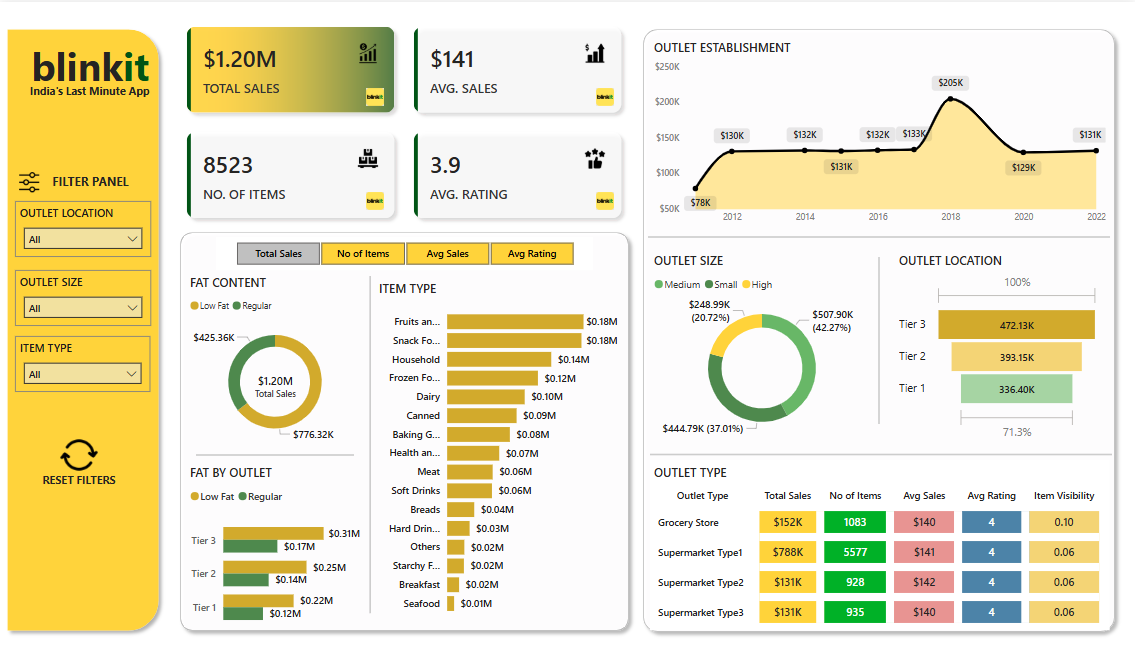

The page's visual inventory and layout, read from the dashboard file:
{"tool":"powerbi","page":{"name":"BlinkIt Analysis","canvas":[1400,800],"ordinal":0},"visuals":[{"type":"shape","box":[0,24.7,204.8,759.8],"z":0},{"type":"textbox","box":[28.7,40.4,166,76.6],"z":1000},{"type":"textbox","box":[27.7,95.7,167,28.7],"z":2000},{"type":"cardVisual","fields":{"Data":["BlinkIT Grocery Data.Total Sales","BlinkIT Grocery Data.Avg Sales","BlinkIT Grocery Data.No of Items","BlinkIT Grocery Data.Avg Rating"]},"box":[213.4,13.6,571.1,270.1],"z":3000},{"type":"shape","box":[213.4,275.1,571.1,509.4],"z":4000},{"type":"donutChart","title":"FAT CONTENT","fields":{"Y":["BlinkIT Grocery Data.Total Sales"],"Category":["BlinkIT Grocery Data.Item Fat Content"]},"box":[229.4,330.6,219.6,223.3],"z":5000},{"type":"slicer","fields":{"Values":["Metrics.Metrics"]},"box":[266.4,289.9,465,40.7],"z":6000},{"type":"cardVisual","fields":{"Data":["BlinkIT Grocery Data.Total Sales"]},"box":[288.3,441.5,102.1,61.7],"z":7000},{"type":"clusteredBarChart","title":"FAT BY OUTLET","fields":{"Y":["BlinkIT Grocery Data.Total Sales"],"Category":["BlinkIT Grocery Data.Outlet Location Type"],"Series":["BlinkIT Grocery Data.Item Fat Content"]},"box":[229.4,564.9,219.6,220.8],"z":8000},{"type":"shape","box":[241.8,552.6,194.9,12.3],"z":9000},{"type":"shape","box":[450,338.3,12.8,416],"z":10000},{"type":"barChart","title":"ITEM TYPE","fields":{"Y":["BlinkIT Grocery Data.Total Sales"],"Category":["BlinkIT Grocery Data.Item Type"]},"box":[462.8,338.3,304.3,427.7],"z":11000},{"type":"shape","box":[784.5,24.7,599.5,761.1],"z":12000},{"type":"lineChart","title":"OUTLET ESTABLISHMENT","fields":{"Category":["BlinkIT Grocery Data.Outlet Establishment Year"],"Y":["BlinkIT Grocery Data.Total Sales"]},"box":[801.8,40.7,567.4,243],"z":13000},{"type":"shape","box":[799.3,283.7,569.9,12.3],"z":14000},{"type":"donutChart","title":"OUTLET SIZE","fields":{"Category":["BlinkIT Grocery Data.Outlet Size"],"Y":["BlinkIT Grocery Data.Total Sales"]},"box":[801.8,303.4,276.3,243],"z":15000},{"type":"shape","box":[1078.1,314.5,12.3,206],"z":16000},{"type":"shape","box":[801.8,551.4,569.9,13.6],"z":17000},{"type":"funnel","title":"OUTLET LOCATION","fields":{"Category":["BlinkIT Grocery Data.Outlet Location Type"],"Y":["Sum(BlinkIT Grocery Data.Sales)"]},"box":[1104,303.4,256.6,243],"z":18000},{"type":"pivotTable","title":"OUTLET TYPE","fields":{"Rows":["BlinkIT Grocery Data.Outlet Type"],"Values":["BlinkIT Grocery Data.Total Sales","BlinkIT Grocery Data.No of Items","BlinkIT Grocery Data.Avg Sales","BlinkIT Grocery Data.Avg Rating","Avg(BlinkIT Grocery Data.Item Visibility)"]},"box":[801.8,564.9,567.4,209.7],"z":19000},{"type":"slicer","title":"OUTLET LOCATION","fields":{"Values":["BlinkIT Grocery Data.Outlet Location Type"]},"box":[18.5,245.5,167.8,69.1],"z":20000},{"type":"slicer","title":"OUTLET SIZE","fields":{"Values":["BlinkIT Grocery Data.Outlet Size"]},"box":[18.5,330.6,167.8,69.1],"z":21000},{"type":"slicer","title":"ITEM TYPE","fields":{"Values":["BlinkIT Grocery Data.Item Type"]},"box":[18.5,412,166.5,69.1],"z":22000},{"type":"textbox","box":[53.2,206.4,117,31.9],"z":23000},{"type":"actionButton","title":"RESET FILTERS","box":[44.4,526.7,106.1,64.1],"z":24000},{"type":"image","box":[18.5,199.8,34.5,44.4],"z":25000},{"type":"textbox","box":[33.3,576,128.3,28.4],"z":26000},{"type":"image","box":[441.6,101.1,41.9,32.1],"z":27000},{"type":"image","box":[725.3,101.1,41.9,32.1],"z":27001},{"type":"image","box":[441.6,229.4,41.9,32.1],"z":27002},{"type":"image","box":[725.3,229.4,41.9,32.1],"z":27003}]}

Visuals, with their boxes in screenshot pixels (x1, y1, x2, y2), scaled from the page's 1400x800 canvas onto the 1135x647 screenshot:
shape: BBox(0, 20, 166, 634)
textbox: BBox(23, 33, 158, 95)
textbox: BBox(22, 77, 158, 101)
cardVisual - BlinkIT Grocery Data.Total Sales x BlinkIT Grocery Data.Avg Sales: BBox(173, 11, 636, 229)
shape: BBox(173, 222, 636, 634)
"FAT CONTENT" donutChart: BBox(186, 267, 364, 448)
slicer - Metrics.Metrics: BBox(216, 234, 593, 267)
cardVisual - BlinkIT Grocery Data.Total Sales: BBox(234, 357, 317, 407)
"FAT BY OUTLET" clusteredBarChart: BBox(186, 457, 364, 635)
shape: BBox(196, 447, 354, 457)
shape: BBox(365, 274, 375, 610)
"ITEM TYPE" barChart: BBox(375, 274, 622, 620)
shape: BBox(636, 20, 1122, 636)
"OUTLET ESTABLISHMENT" lineChart: BBox(650, 33, 1110, 229)
shape: BBox(648, 229, 1110, 239)
"OUTLET SIZE" donutChart: BBox(650, 245, 874, 442)
shape: BBox(874, 254, 884, 421)
shape: BBox(650, 446, 1112, 457)
"OUTLET LOCATION" funnel: BBox(895, 245, 1103, 442)
"OUTLET TYPE" pivotTable: BBox(650, 457, 1110, 626)
"OUTLET LOCATION" slicer: BBox(15, 199, 151, 254)
"OUTLET SIZE" slicer: BBox(15, 267, 151, 323)
"ITEM TYPE" slicer: BBox(15, 333, 150, 389)
textbox: BBox(43, 167, 138, 193)
"RESET FILTERS" actionButton: BBox(36, 426, 122, 478)
image: BBox(15, 162, 43, 197)
textbox: BBox(27, 466, 131, 489)
image: BBox(358, 82, 392, 108)
image: BBox(588, 82, 622, 108)
image: BBox(358, 186, 392, 211)
image: BBox(588, 186, 622, 211)
